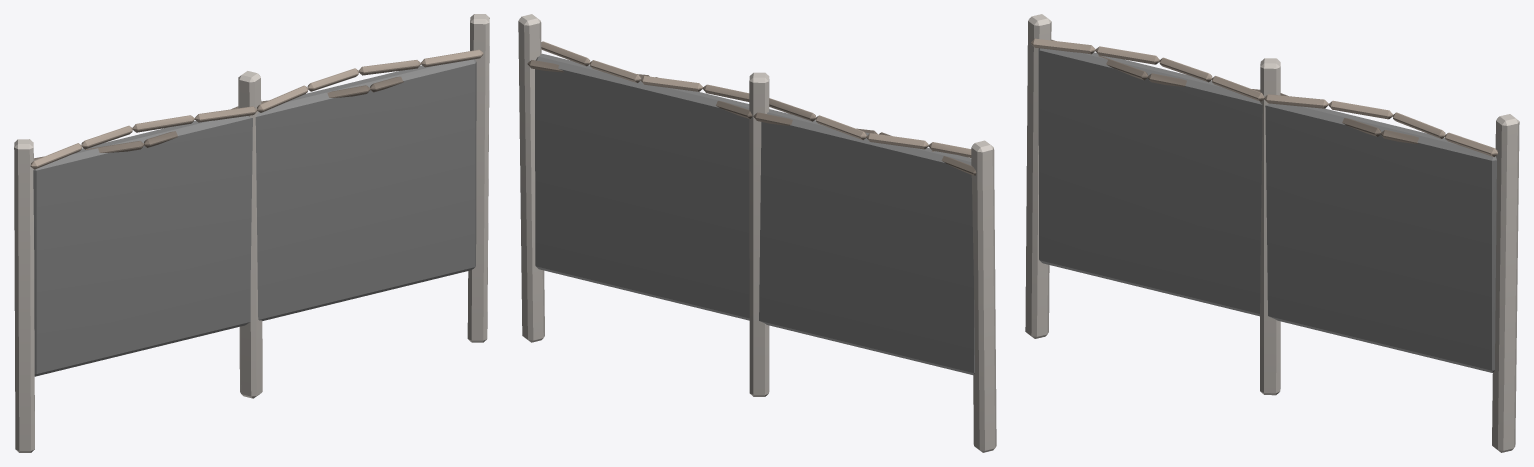
Rendered from wattle_fence.glb.
3 views of the same model, side by side, from view 1: azimuth 30°, elevation 25°; view 2: azimuth 150°, elevation 25°; view 3: azimuth 330°, elevation 25° (orthographic). The views are drawn at different scales.
Parts seen in each view (by area): view 1: stake; view 2: stake; view 3: stake.
Part boxes in pixels (box(x1,y1,x2,y2)): stake: box(14, 14, 489, 452); stake: box(518, 14, 996, 452); stake: box(1025, 14, 1519, 452).
Bounding box in the file's own units: 2.1 × 1.36 × 0.1192.
